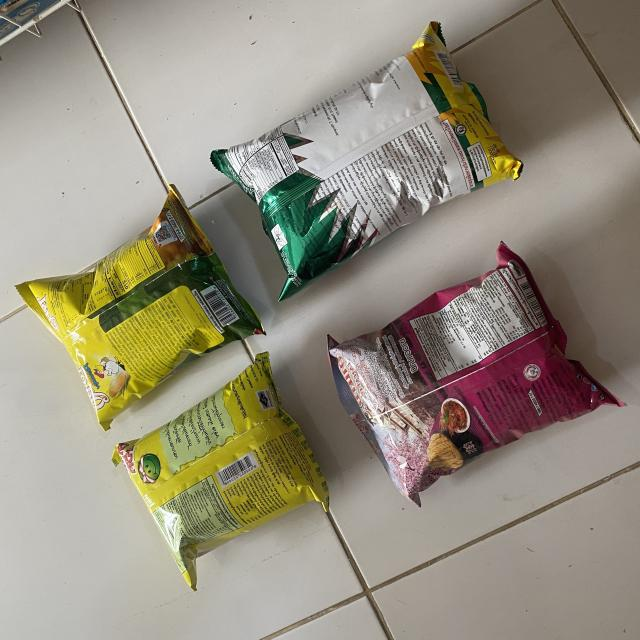plastik: (210, 21, 523, 299), (327, 243, 623, 506), (16, 185, 265, 430), (113, 352, 329, 589)
